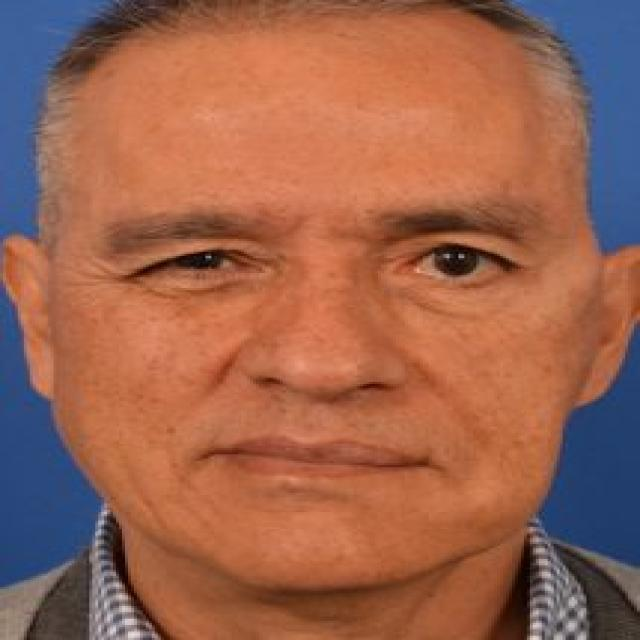stroke_face: (39, 2, 581, 580)
